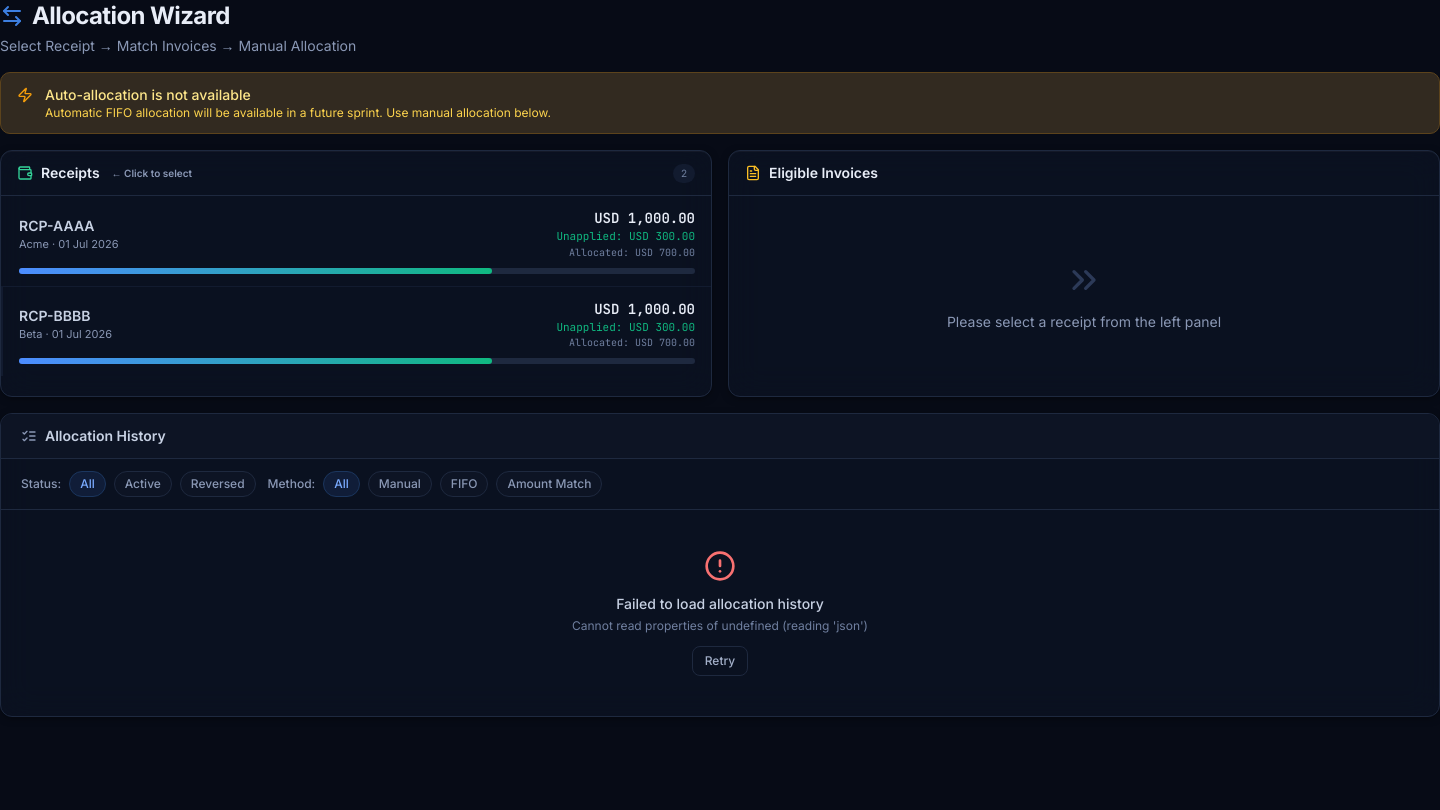
Test case: D3/D4 — failed or malformed refetch clears prior state (Phase B) › clears candidates and disables submission when a refetch fails
Click the text "RCP-AAAA": coordinates (57, 225) [19,216,94,234]
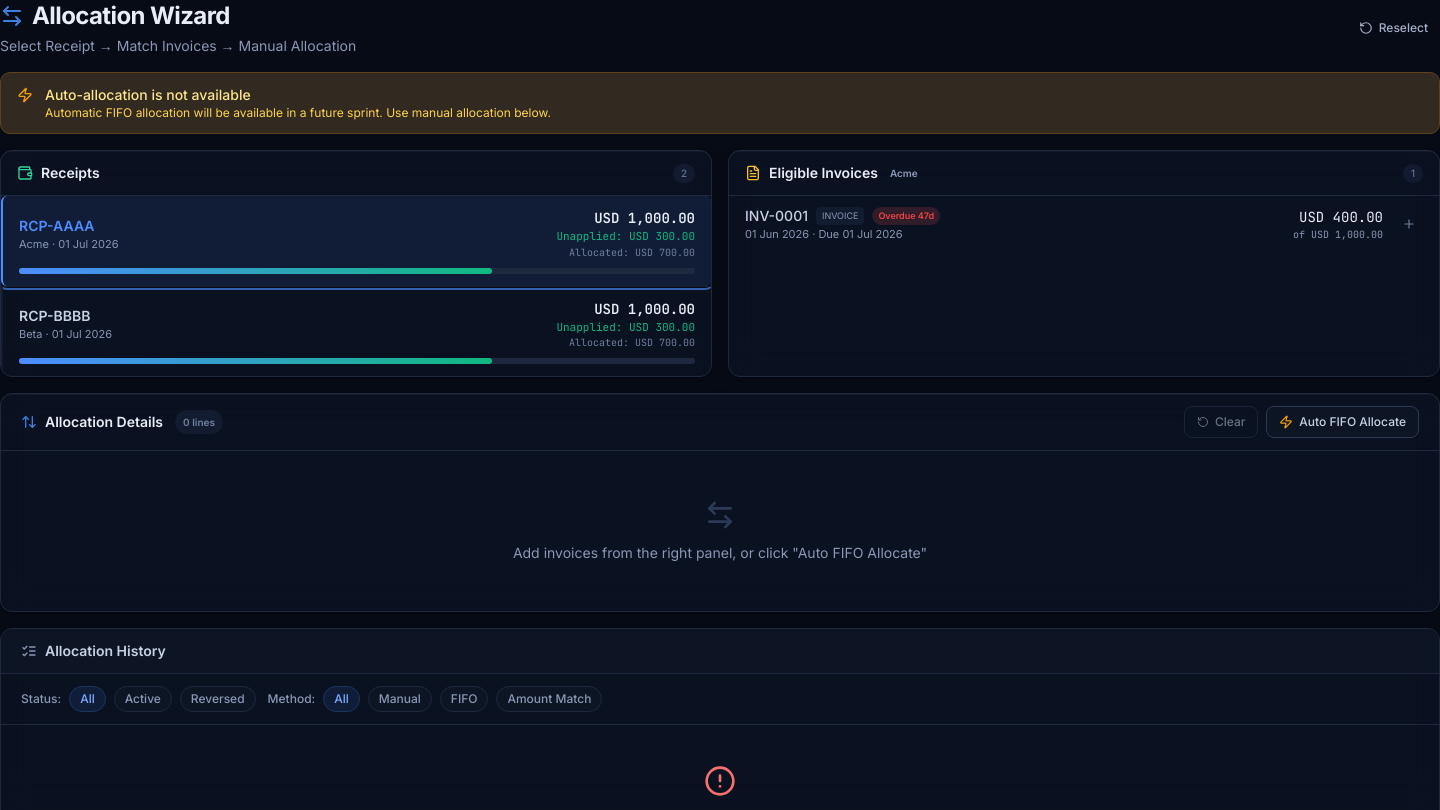
Result: the text "INV-0001" is shown at [745,206,808,226]
Click the button titled "Add to allocation": coordinates (1409, 224) [1395,210,1423,238]
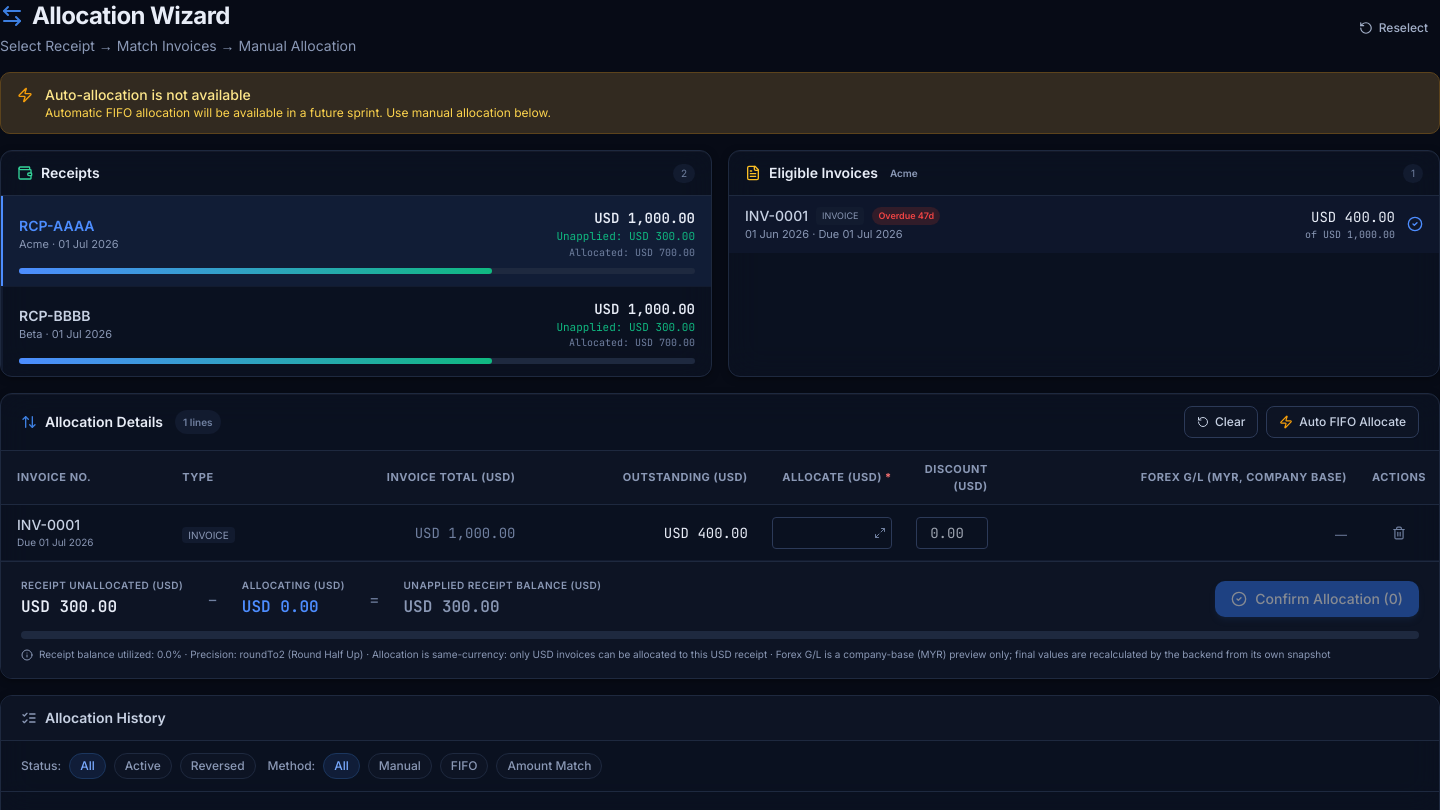
Click the button "Reselect": coordinates (1393, 28) [1347,12,1439,44]
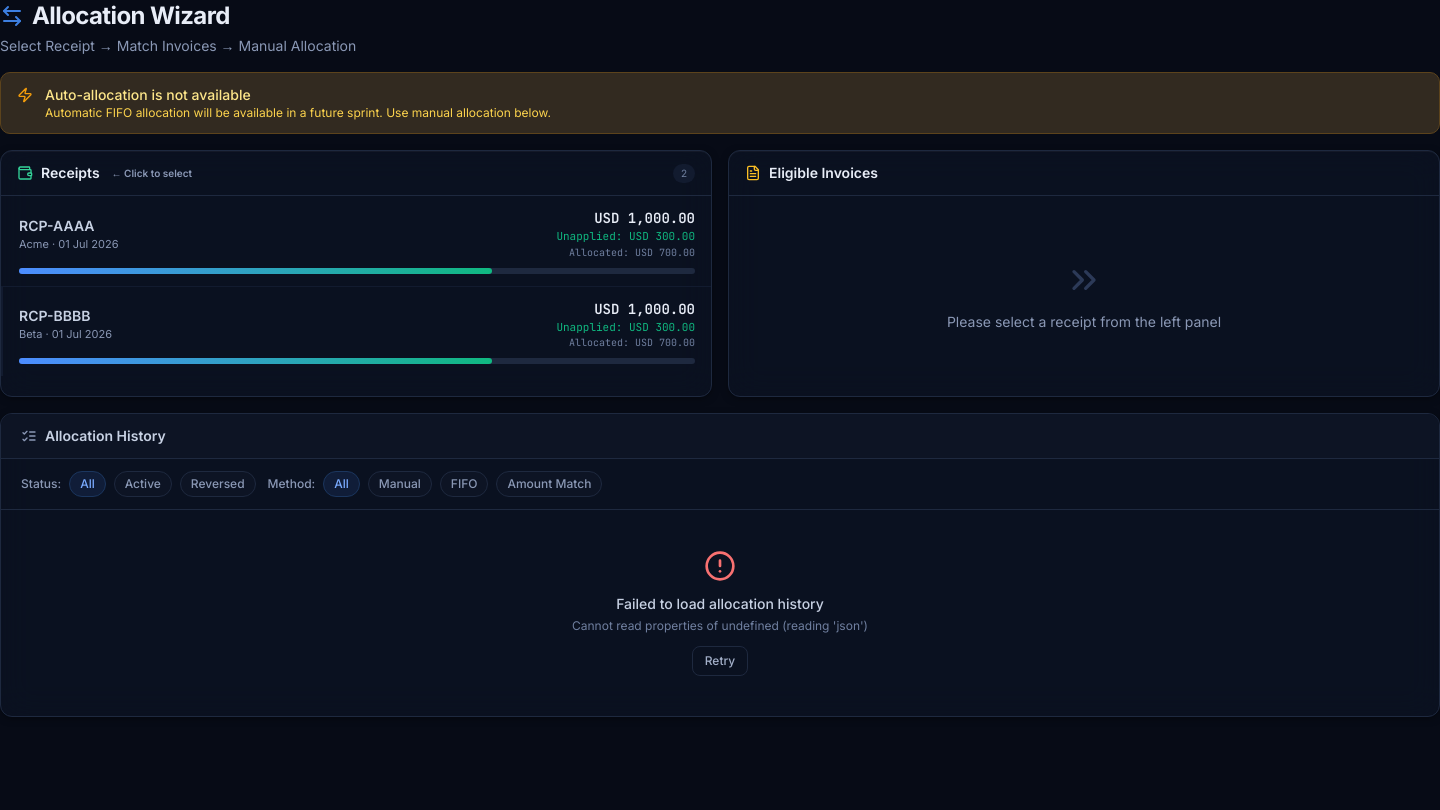
Click the text "RCP-AAAA": coordinates (57, 225) [19,216,94,234]
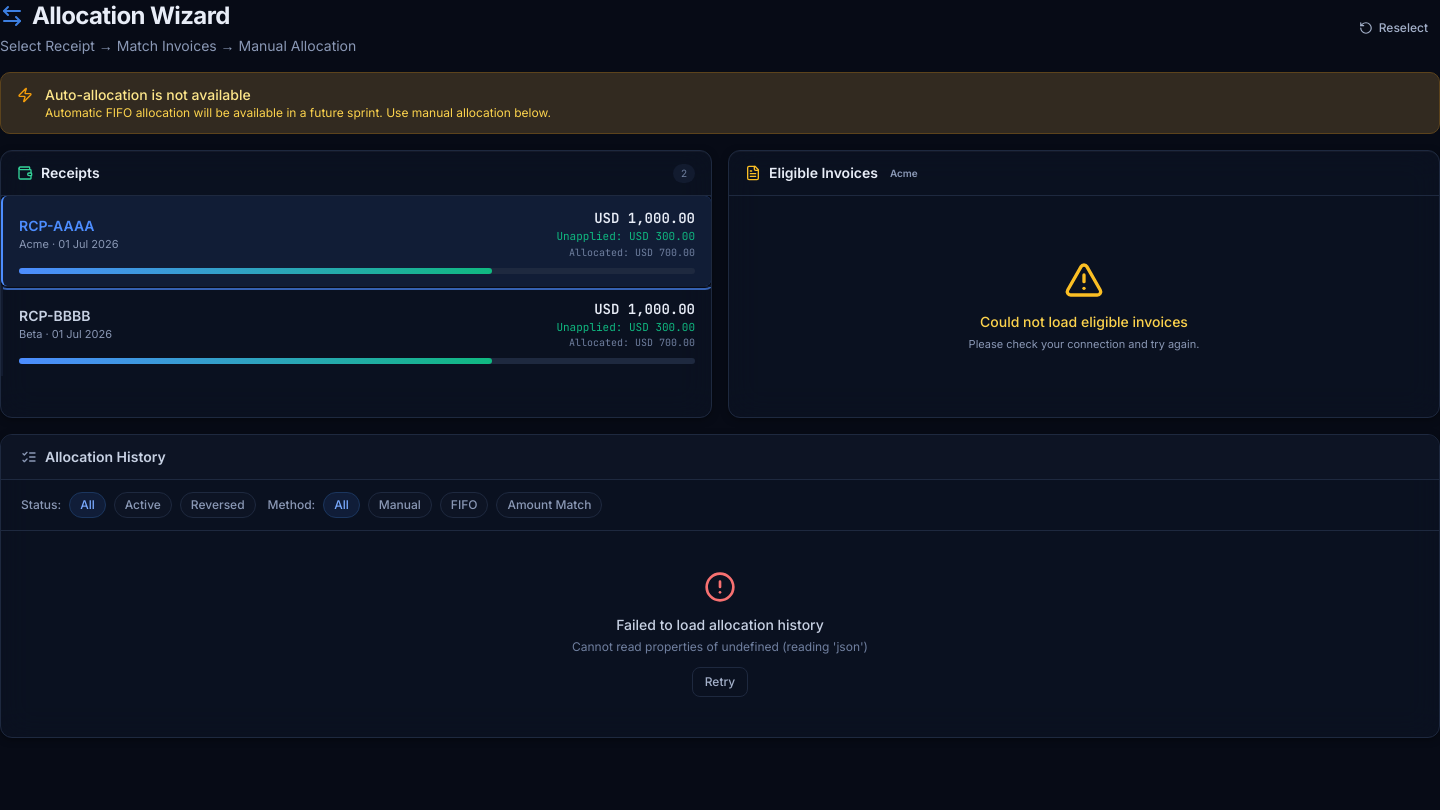
Expected: the text "INV-0001" is not shown
Result: the text "Could not load eligible invoices" is shown at [980,312,1188,332]
